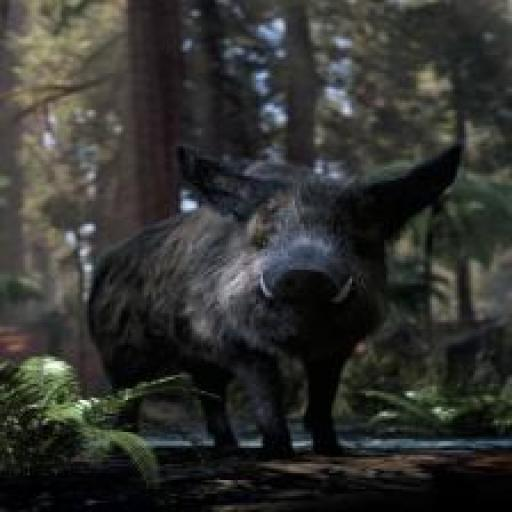Pig: (87, 142, 465, 451)
